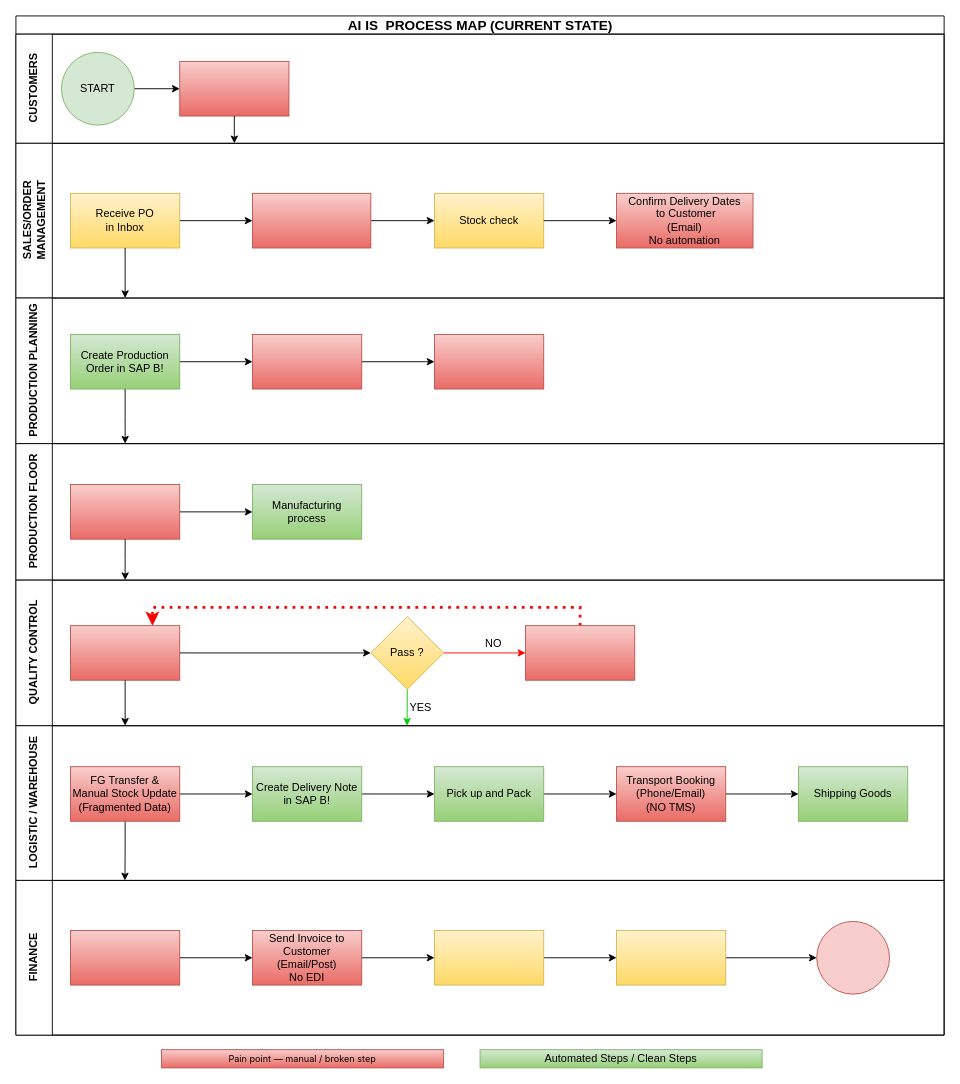
The diagram is 960 pixels wide and 1084 high, and some of its shapes have lost their labels. The shapes that lost their labels are listed below. From the top down, each one's centre as x and y in pixels, then its label:
At pixel 234 88: "Send PO (Email/Fax)".
At pixel 311 220: "Manual Entry in SAPB1 (23 min, 4% error rate)".
At pixel 307 361: "Material Planning in Excel No MRP".
At pixel 489 361: "Production Scheduling in Exce l (2.1 day delay)".
At pixel 125 511: "Material Pull (Paper form)".
At pixel 125 652: "End of line Inspection (6hr detection lag)".
At pixel 580 652: "Re work / Scrap Delay + Cost".
At pixel 125 957: "Manual Invoice Creation (8.5 day lag)".
At pixel 489 957: "Customer Receives Good Inspection".
At pixel 671 957: "Process Invoice Schedule Payment".
At pixel 853 957: "END".
